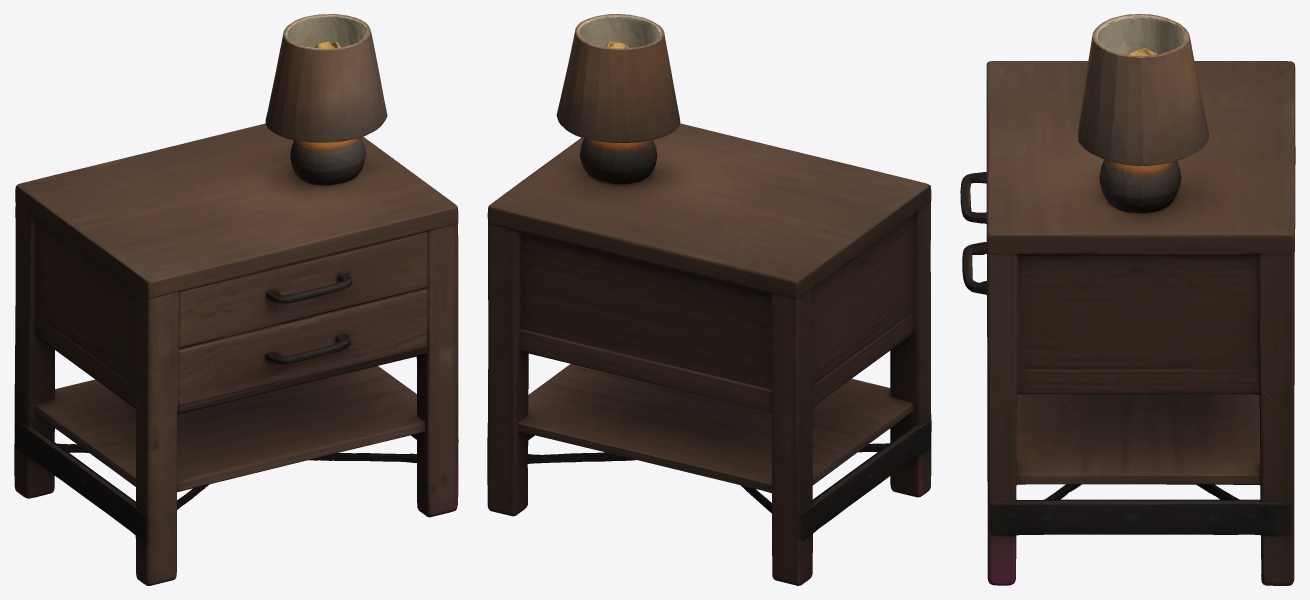
The model's file is nightstand_lamp_dark.glb.
The picture shows the model from 3 angles, left to right: view 1: azimuth 30°, elevation 25°; view 2: azimuth 150°, elevation 25°; view 3: azimuth 270°, elevation 25°; orthographic projection. The views are drawn at different scales.
Visible parts, largest first — view 1: geometry_0; view 2: geometry_0; view 3: geometry_0.
Part boxes in pixels (x1,y1,x2,y2): geometry_0: (14,14,458,585); geometry_0: (487,14,931,585); geometry_0: (960,14,1295,585).
Size of the model in its own units: 0.737 by 1 by 0.5908.
Materials: 1 (1 with a texture image).
